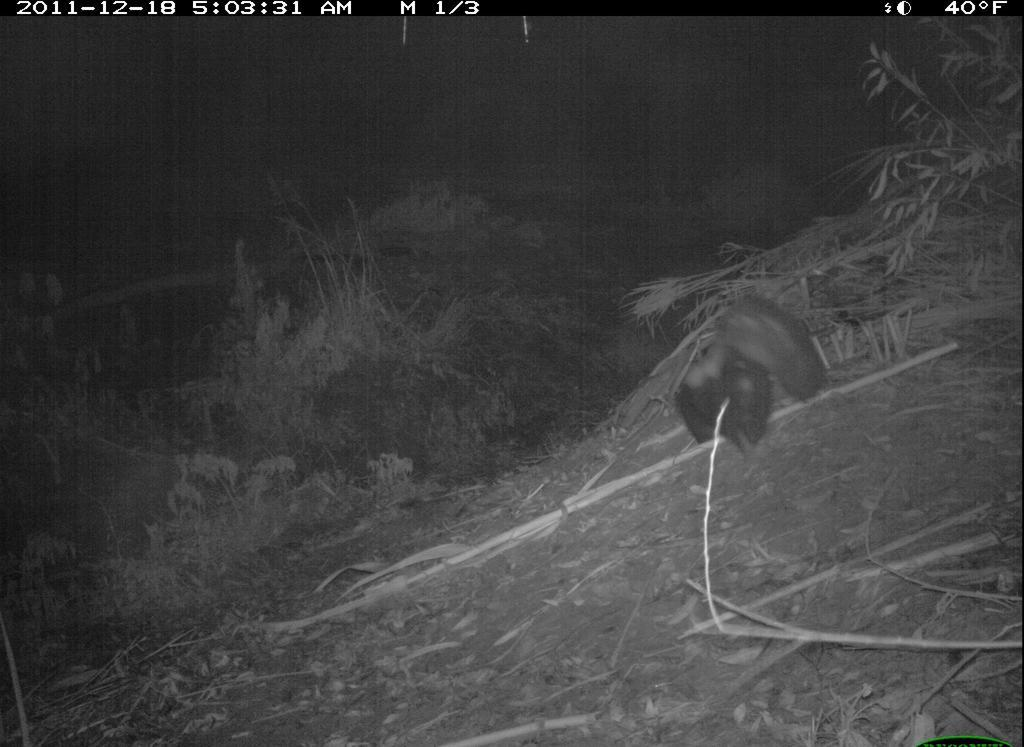skunk: (673, 267, 853, 461)
